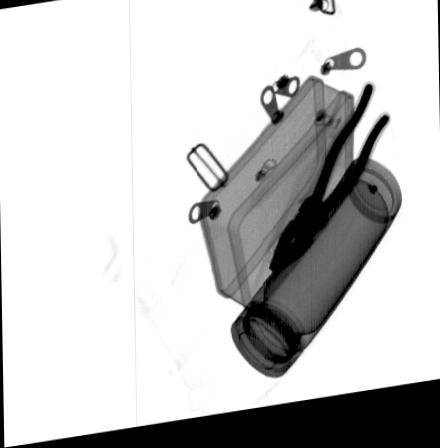Pliers: (267, 90, 391, 282)
